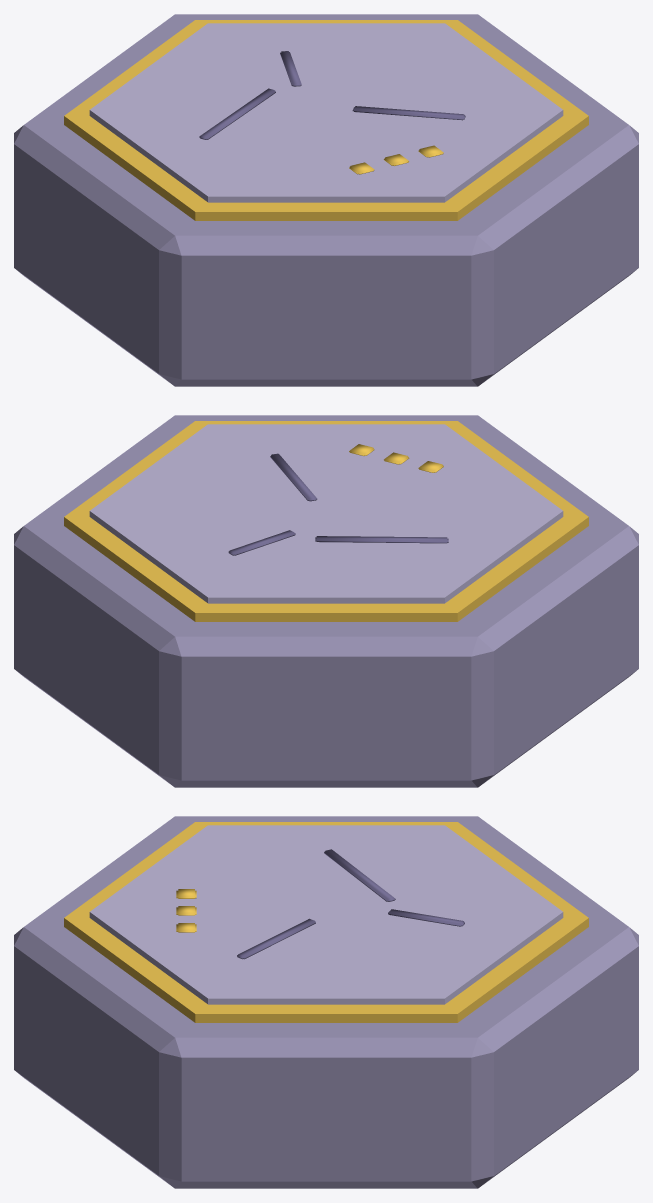
File: piso-dungeon-b.glb
3 renders of one model, top to bottom at view 1: azimuth 30°, elevation 25°; view 2: azimuth 150°, elevation 25°; view 3: azimuth 270°, elevation 25°, orthographic.
Parts seen in each view (by area): view 1: PisoB; view 2: PisoB; view 3: PisoB.
Part boxes in pixels (x1,y1,x2,y2): PisoB: (14, 14, 638, 386); PisoB: (14, 415, 638, 787); PisoB: (14, 816, 638, 1188).
Size of the model in its own units: 1.66 by 0.558 by 1.88.
